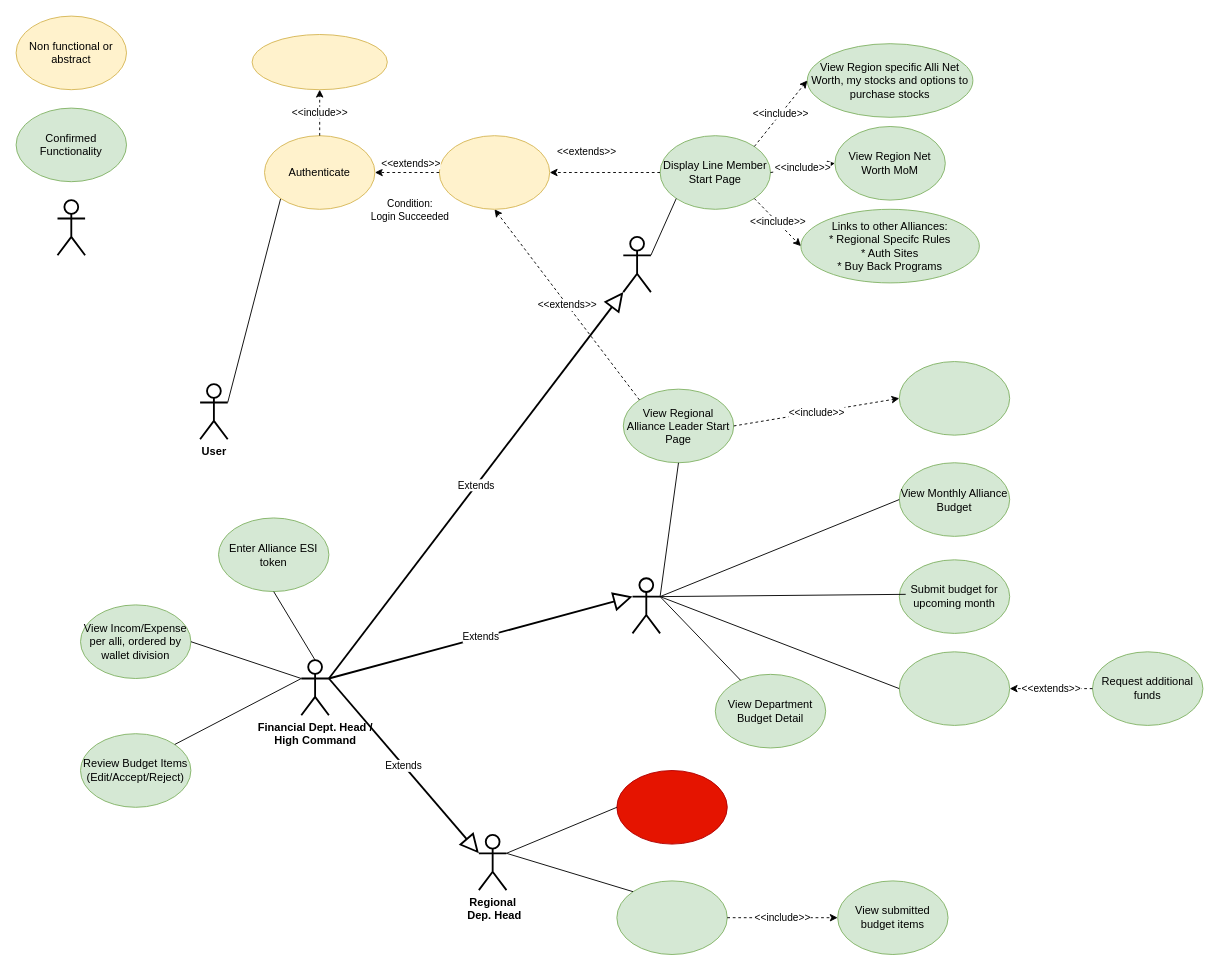
This 1219x971 diagram has some shape labels left out. The shapes that lost their labels are listed below. From the top down, each one's centre as x and y in pixels, then its label:
point (319, 62): Auth with EVE SSO
point (494, 172): Show Start Page
point (71, 227): Actor / Role
point (636, 264): Line Member
point (954, 398): Show Regions Net Worth MoM
point (646, 605): Regional Alliance Leader
point (954, 688): Submit misc cost for current month
point (671, 807): Slide 8
point (671, 917): Request Dept. Budget per Sec Status and type of expense
